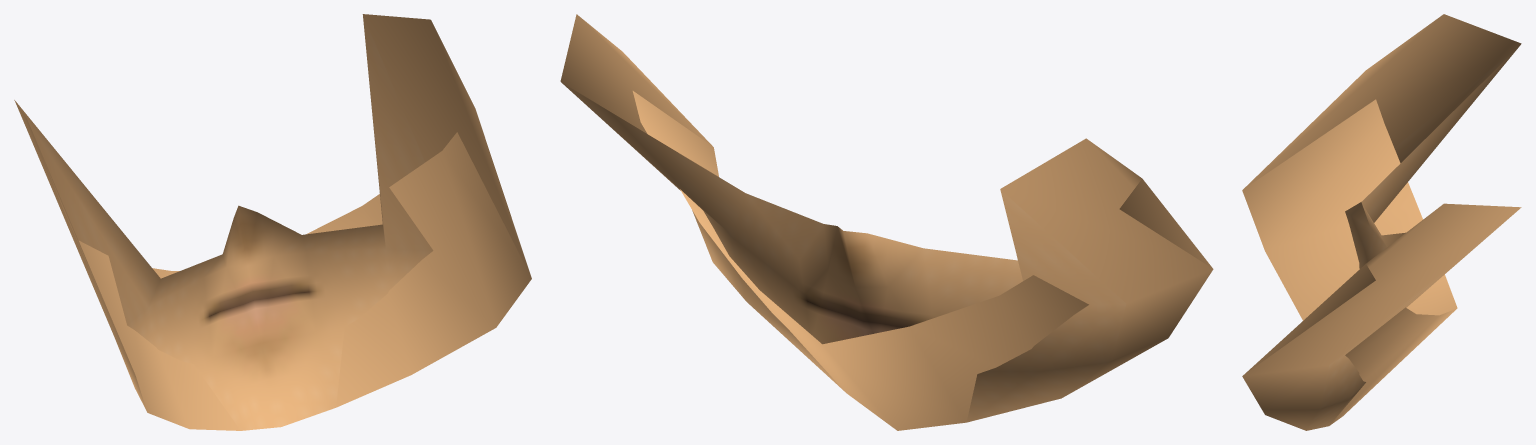
The model's file is batch_0019.obj.
The picture shows the model from 3 angles, left to right: view 1: azimuth 30°, elevation 25°; view 2: azimuth 150°, elevation 25°; view 3: azimuth 270°, elevation 25°; orthographic projection. The views are drawn at different scales.
Parts seen in each view (by area): view 1: batch_0019; view 2: batch_0019; view 3: batch_0019.
Boxes of the visible parts, x1,y1,x2,y2 form: batch_0019: (14,14,531,430); batch_0019: (560,14,1213,430); batch_0019: (1242,14,1521,430).
Bounding box in the file's own units: 24.95 × 18.5 × 15.25.
Materials: 1 (1 with a texture image).
